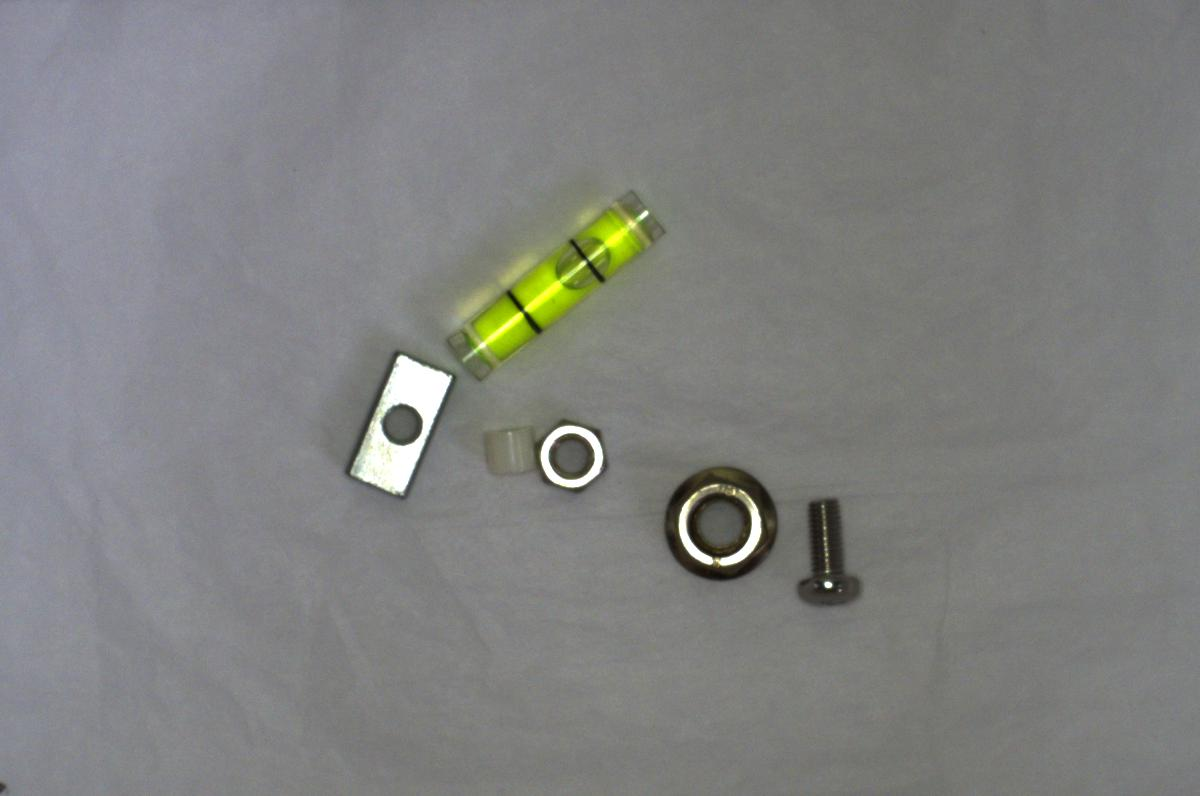Flange nut: (654, 462, 784, 574)
Hexagon nut: (527, 414, 618, 495)
Horizontal bubble: (447, 178, 671, 379)
Plastic cushion pillar: (457, 416, 544, 488)
Rectangular nut: (341, 349, 457, 501)
Round head screw: (787, 488, 867, 614)
